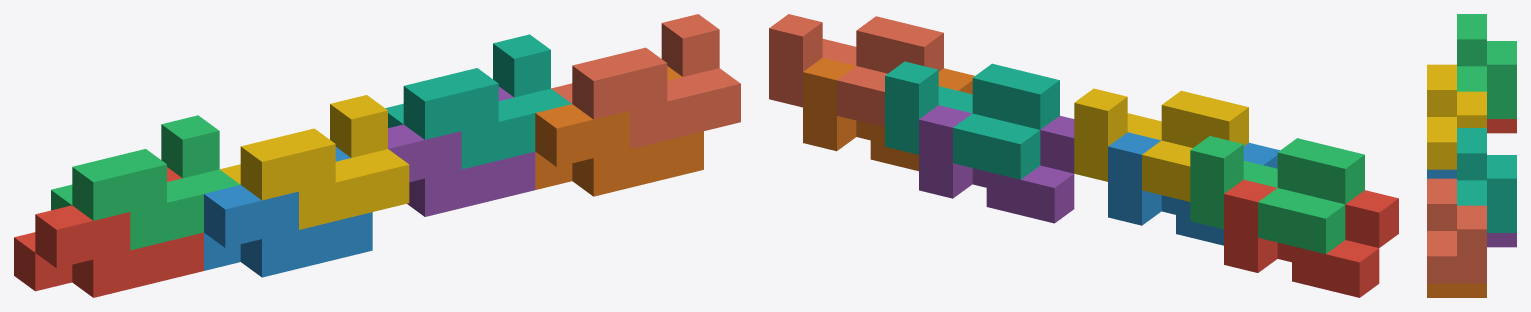
File: tiling.obj
3 views of the same model, side by side, from view 1: azimuth 30°, elevation 25°; view 2: azimuth 150°, elevation 25°; view 3: azimuth 270°, elevation 25° (orthographic). The views are drawn at different scales.
Parts seen in each view (by area): view 1: copy_1_domain_8, copy_1_domain_4, copy_1_domain_3, copy_1_domain_7, copy_1_domain_1, copy_1_domain_6, copy_1_domain_2, copy_1_domain_5; view 2: copy_1_domain_3, copy_1_domain_7, copy_1_domain_4, copy_1_domain_8, copy_1_domain_1, copy_1_domain_5, copy_1_domain_2, copy_1_domain_6; view 3: copy_1_domain_8, copy_1_domain_3, copy_1_domain_7, copy_1_domain_4, copy_1_domain_6, copy_1_domain_1, copy_1_domain_5, copy_1_domain_2.
Part boxes in pixels (x1,y1,x2,y2): copy_1_domain_8: (551,14,740,148); copy_1_domain_4: (220,95,409,229); copy_1_domain_3: (51,115,240,250); copy_1_domain_7: (385,34,571,169); copy_1_domain_1: (14,167,203,297); copy_1_domain_6: (535,66,703,196); copy_1_domain_2: (204,147,372,277); copy_1_domain_5: (388,86,535,216); copy_1_domain_3: (1190,136,1364,253); copy_1_domain_7: (885,61,1059,179); copy_1_domain_4: (1074,88,1248,201); copy_1_domain_8: (769,14,943,127); copy_1_domain_1: (1224,179,1398,297); copy_1_domain_5: (919,105,1074,223); copy_1_domain_2: (1108,132,1279,245); copy_1_domain_6: (803,57,974,171); copy_1_domain_8: (1427,178,1486,283); copy_1_domain_3: (1457,14,1516,118); copy_1_domain_7: (1457,128,1516,232); copy_1_domain_4: (1427,64,1486,169); copy_1_domain_6: (1427,283,1486,297); copy_1_domain_1: (1487,119,1516,133); copy_1_domain_5: (1487,233,1516,247); copy_1_domain_2: (1427,169,1456,178).
Size of the model in its own units: 18 by 3 by 3.
